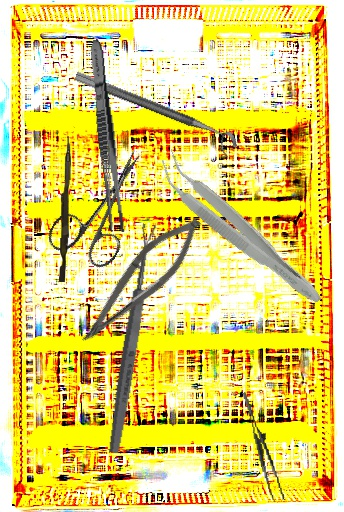Dressing Forceps: (85, 38, 128, 234)
Fixation Ring: (68, 70, 241, 160)
Iris Scissors: (43, 132, 167, 278)
Micro Scissor: (72, 204, 211, 359)
Pusher: (58, 135, 72, 283)
Surgical Spoon: (106, 223, 158, 454)
Tissue Forceps: (148, 148, 334, 312), (242, 388, 285, 505)
